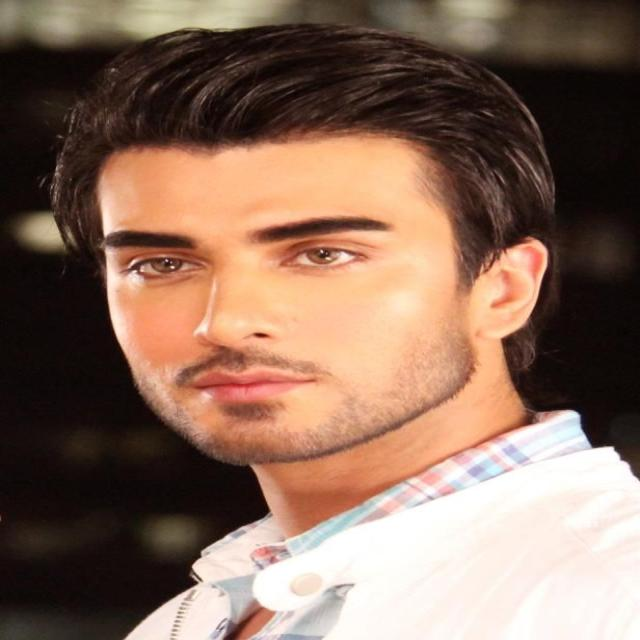front: (75, 185, 486, 445)
